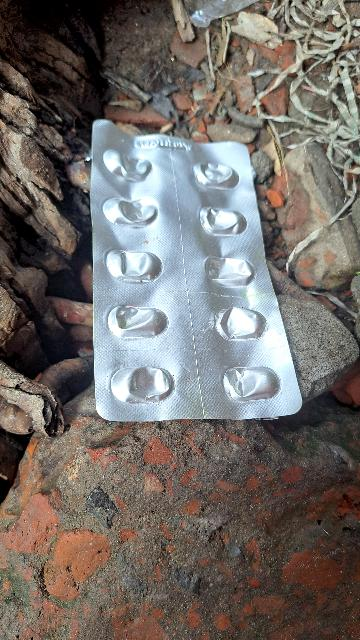medicine: (85, 109, 321, 426)
